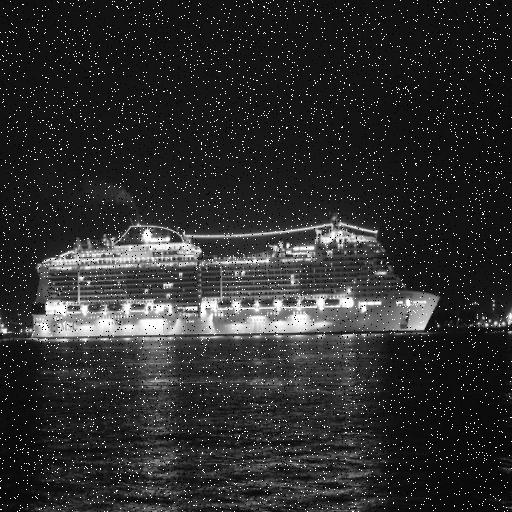cruises: (30, 216, 443, 346)
